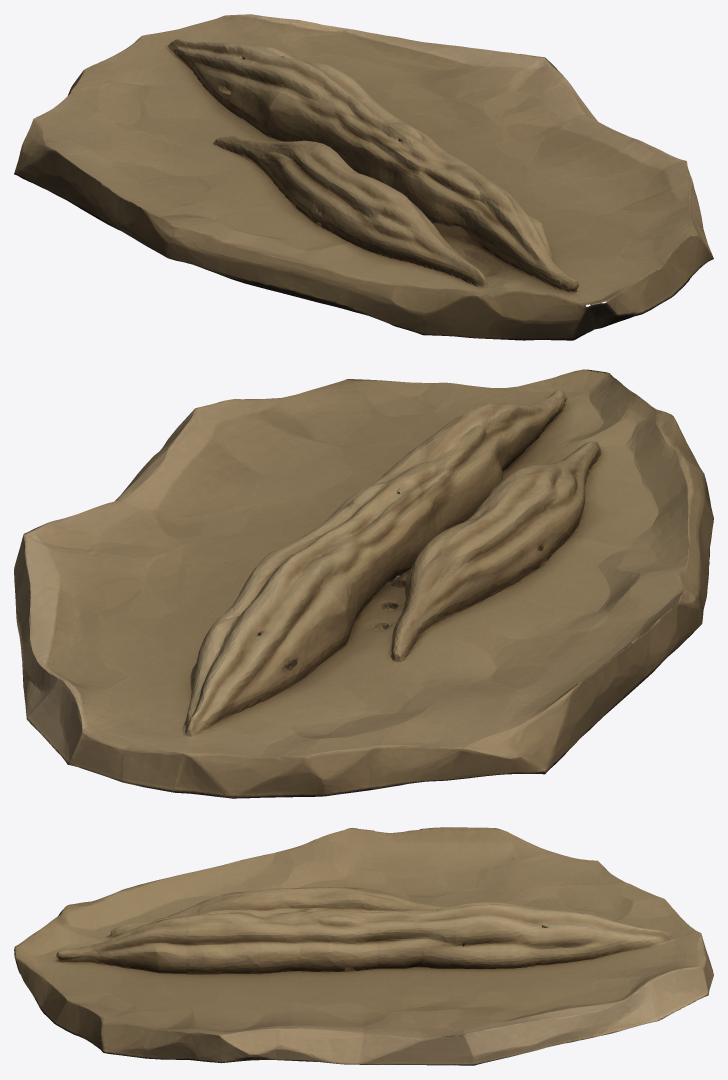
3 renders of one model, top to bottom at view 1: azimuth 30°, elevation 25°; view 2: azimuth 150°, elevation 25°; view 3: azimuth 270°, elevation 25°, orthographic. The views are drawn at different scales.
Visible parts, largest first — view 1: world; view 2: world; view 3: world.
Part boxes in pixels (x1,y1,x2,y2): world: (14, 14, 713, 340); world: (14, 369, 713, 798); world: (14, 827, 713, 1065).
Bounding box in the file's own units: 0.1671 × 0.0269 × 0.24.
1 material, 1 textured.
